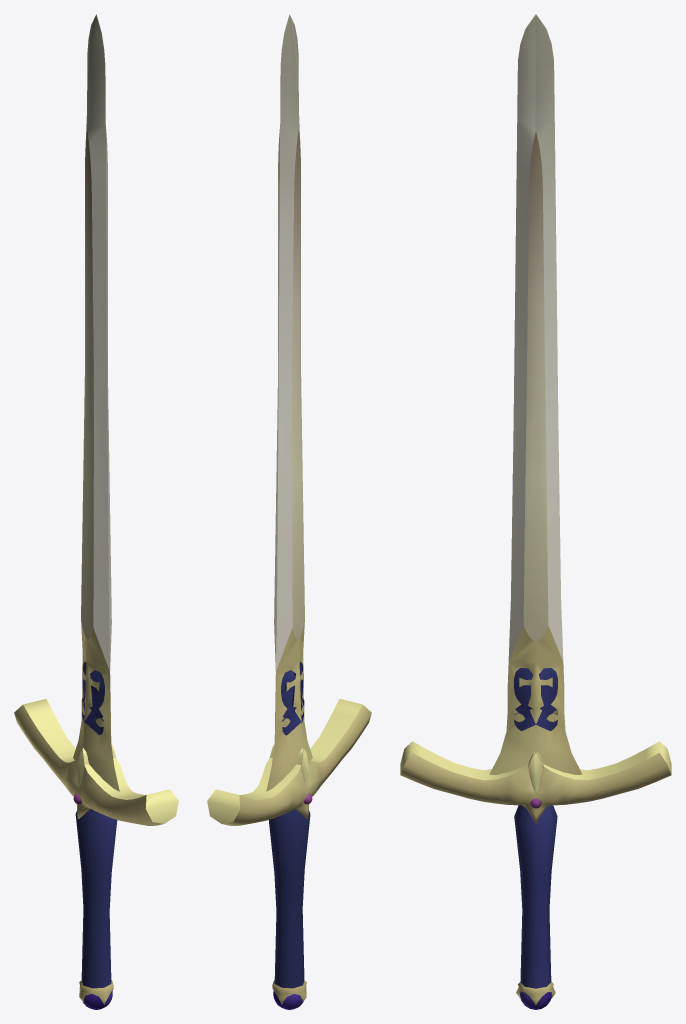
Rendered from caliburn_eedbfd3b.glb.
3 views of the same model, side by side, from view 1: azimuth 30°, elevation 25°; view 2: azimuth 150°, elevation 25°; view 3: azimuth 270°, elevation 25° (orthographic).
Size of the model in its own units: 0.1036 by 2.23 by 0.5521.
1 material, 1 textured.
